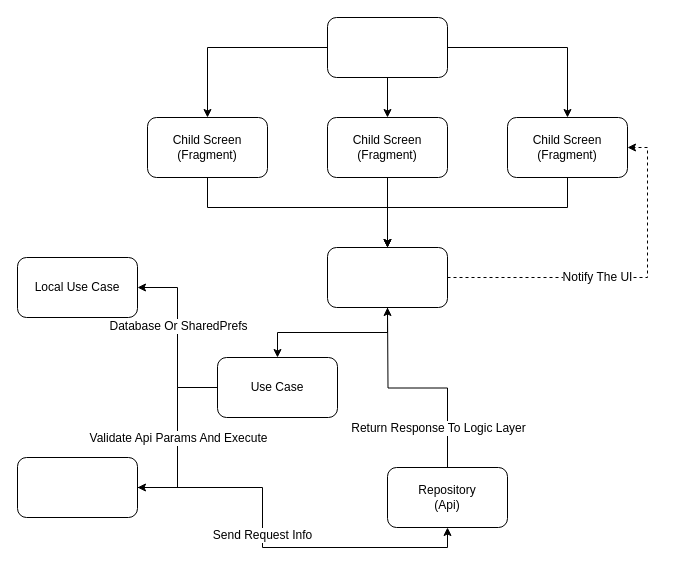
This 673x573 diagram has some shape labels left out. The centre of each missing label's shape, as x and y in pixels:
"Logic (ViewModel)" belongs at (x=387, y=277).
"Network UseCase" belongs at (x=77, y=487).
"UI Container (Screen)" belongs at (x=387, y=47).
